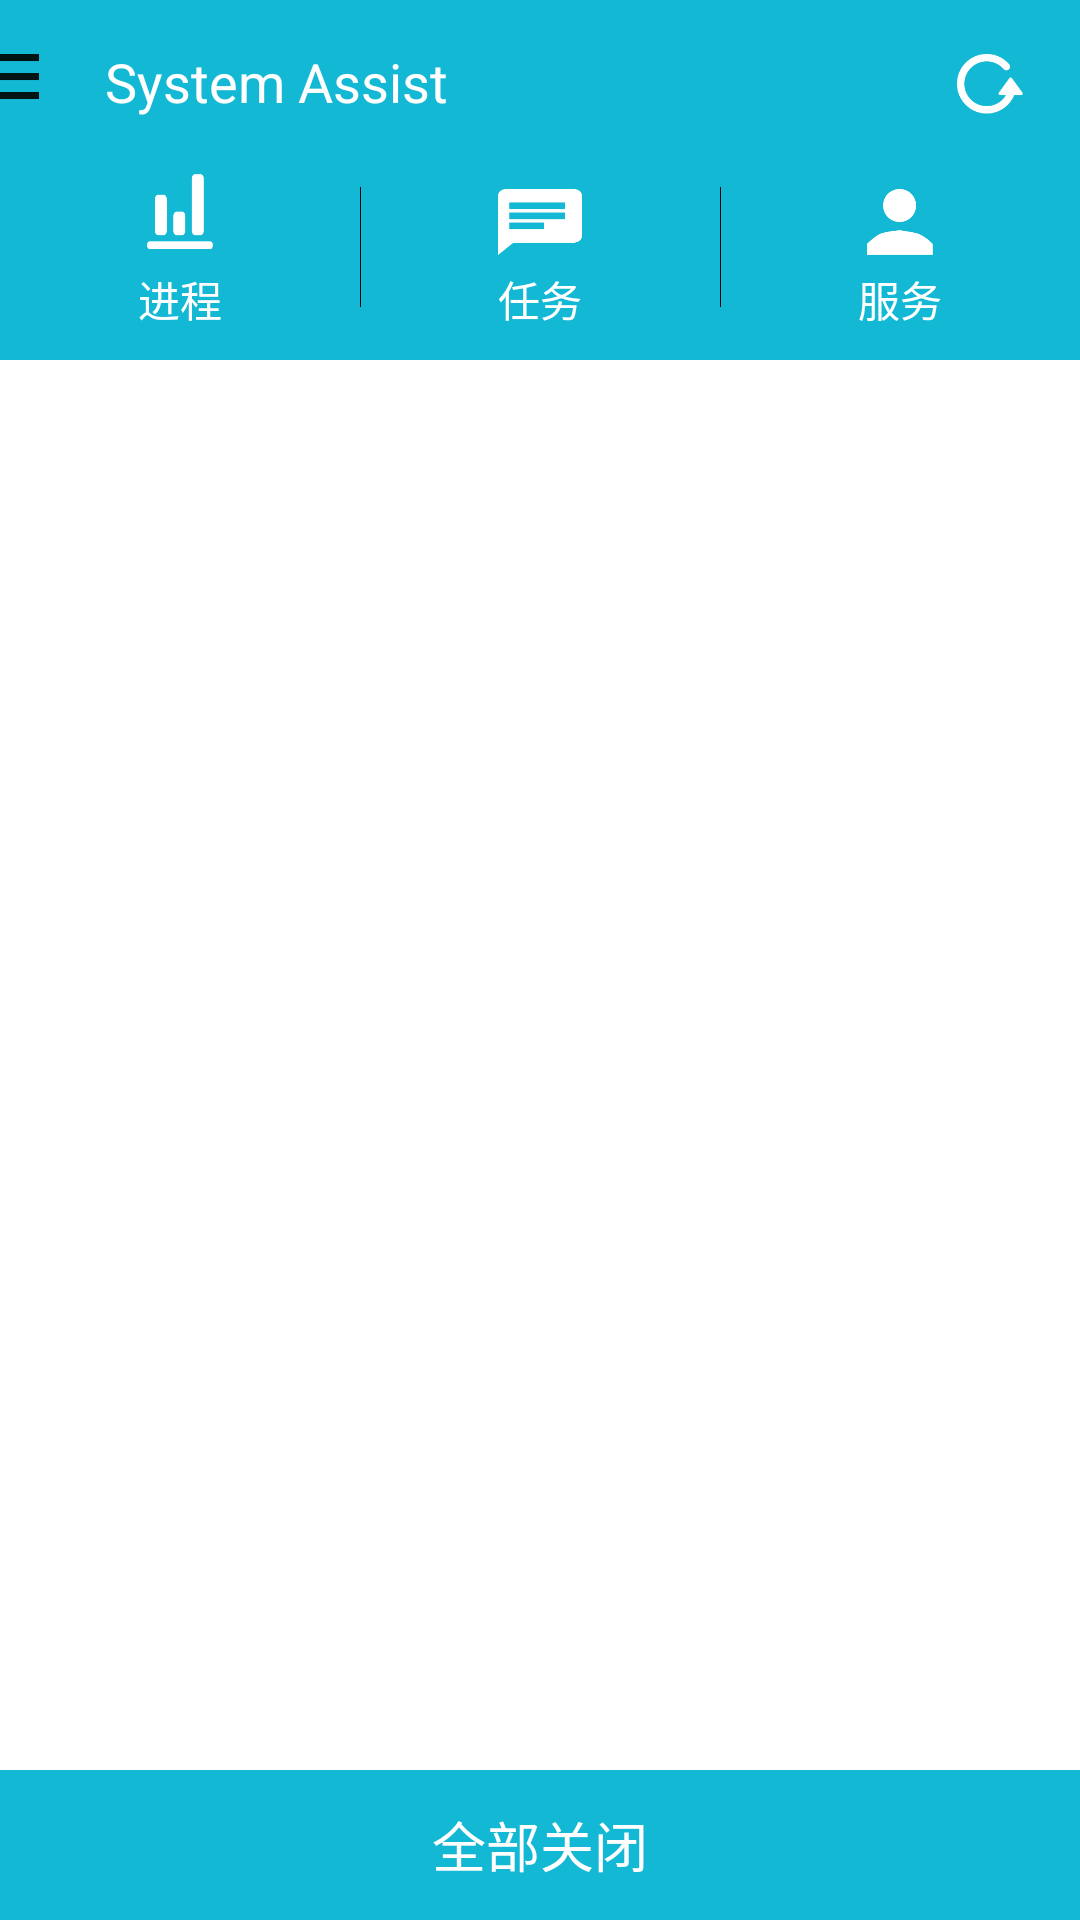

Where icons sit on this 1080px x 1920px app screen, as (x1, y1, x2, y2):
update: (957, 54, 1023, 114)
